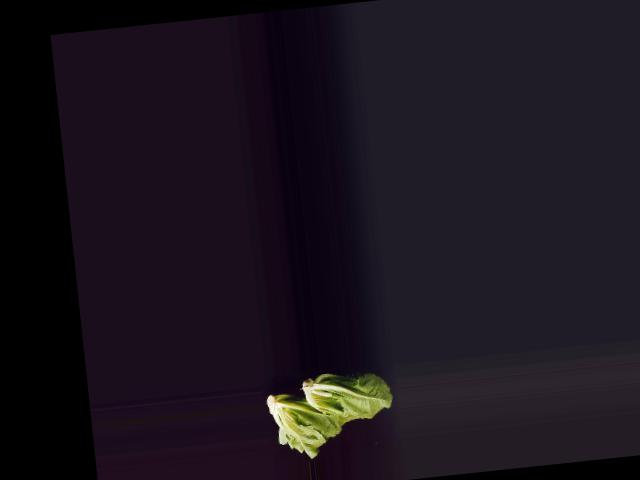lettuce: (265, 376, 359, 461)
